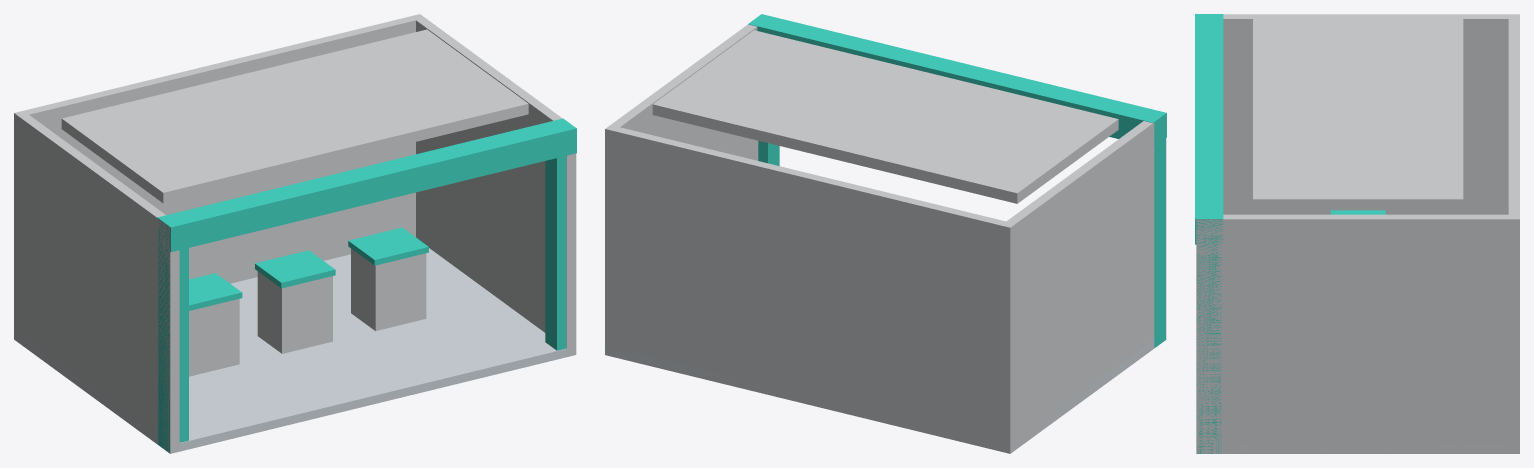
The picture shows the model from 3 angles, left to right: view 1: azimuth 30°, elevation 25°; view 2: azimuth 150°, elevation 25°; view 3: azimuth 270°, elevation 25°; orthographic projection. The views are drawn at different scales.
Parts seen in each view (by area): view 1: Exhibition Booth Concept; view 2: Exhibition Booth Concept; view 3: Exhibition Booth Concept.
Boxes of the visible parts, x1,y1,x2,y2 form: Exhibition Booth Concept: [14, 14, 576, 453]; Exhibition Booth Concept: [605, 14, 1166, 453]; Exhibition Booth Concept: [1195, 14, 1519, 453].
Size of the model in its own units: 6 by 3.34 by 4.02.
